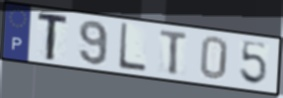0: (198, 35, 229, 82)
5: (237, 39, 269, 87)
9: (77, 19, 110, 67)
L: (117, 21, 148, 74)
T: (36, 12, 71, 62), (158, 28, 190, 76)
